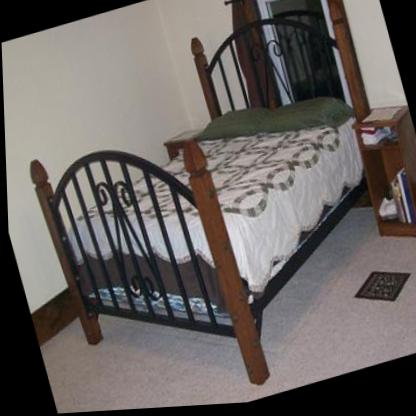Bed: (4, 0, 416, 416)
